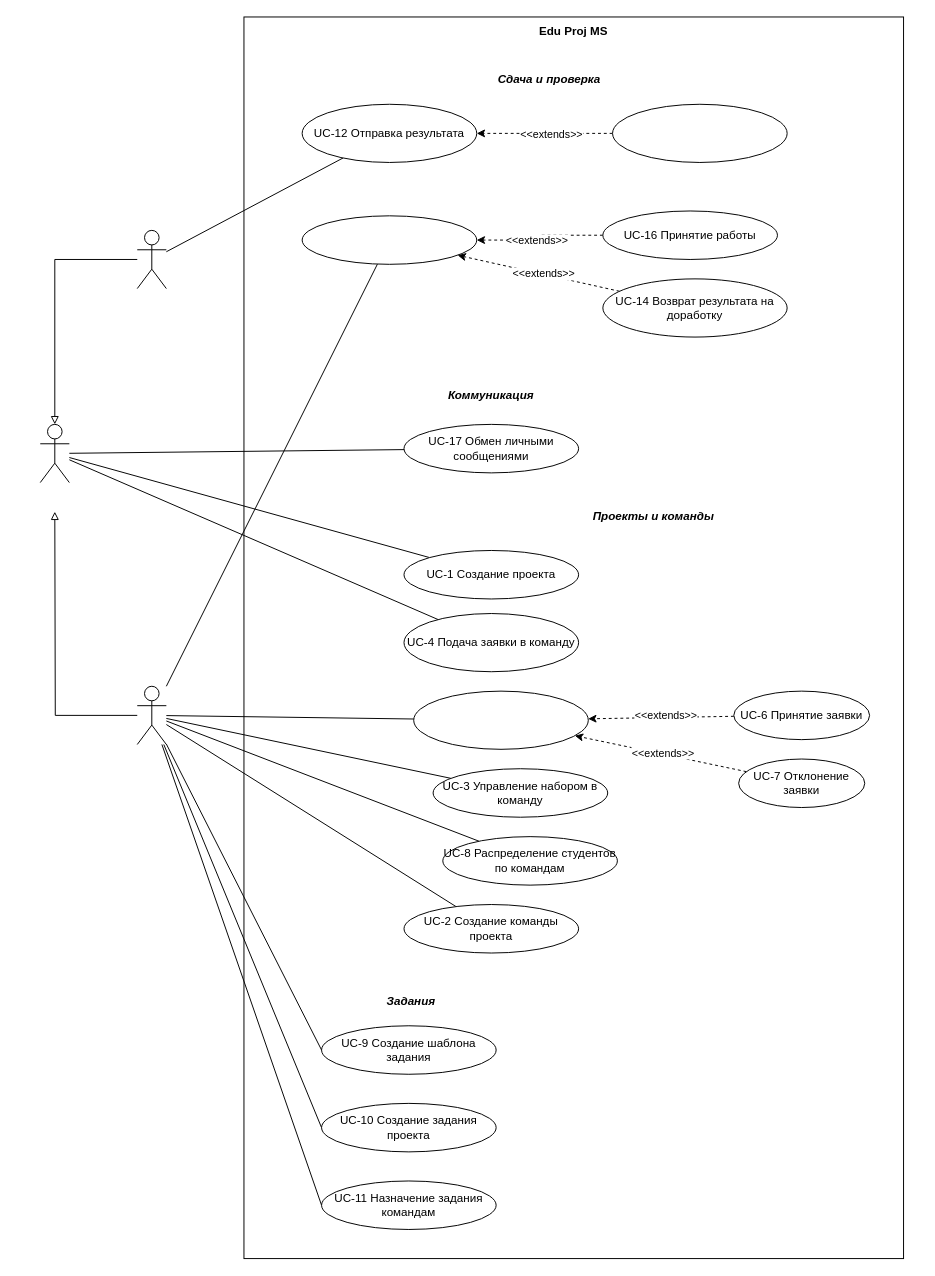
Image size: 935x1276. Some labels were removed from this diagram. Each missing label, with the centre of its shape:
UC-13 Проверка результата: (x=389, y=239)
UC-15 Повторная отправка результата: (x=699, y=132)
UC-5 Рассмотрение заявки в команду: (x=500, y=719)
Пользователь: (x=54, y=453)
Управляющий проектом: (x=151, y=714)
Участник команды: (x=151, y=259)
